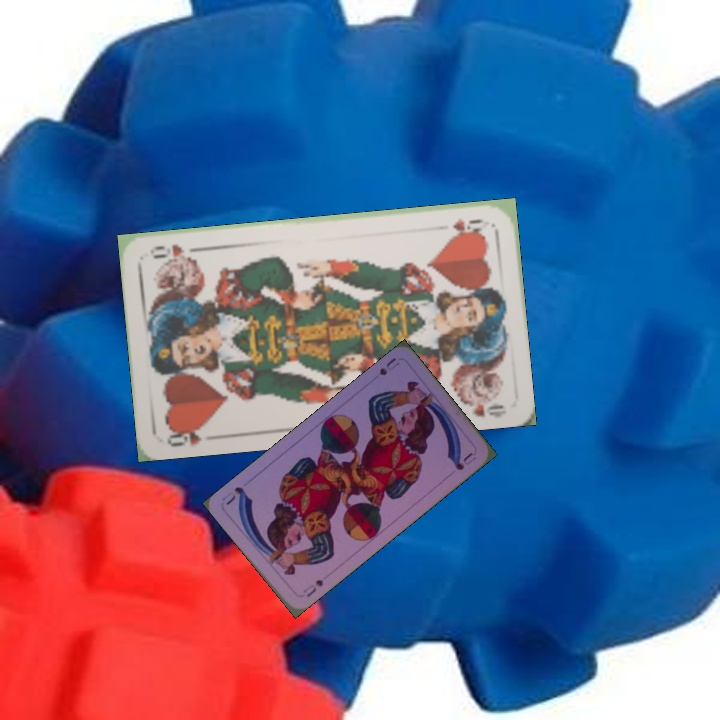HO: (163, 420, 211, 450), (448, 215, 487, 237)
SU: (375, 353, 402, 378), (299, 575, 326, 600)
